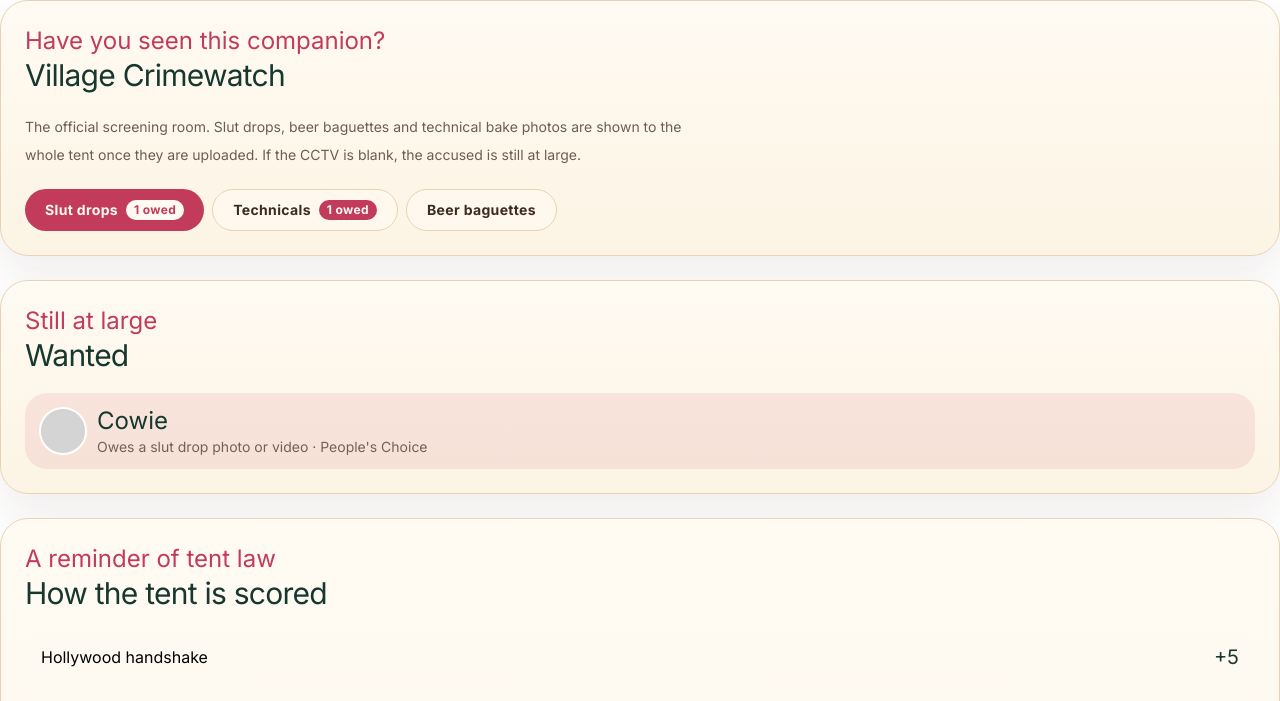
Scenario: Crimewatch punishment buttons › shows one punishment at a time, starting with slut drops
Expected: the heading "Wanted" is shown, 25,337 -> 128,373
Expected: the text "Technical challenges" is not shown
Click the tab "Technicals 1 owed".
click(305, 210)  # box 212,189 -> 398,231
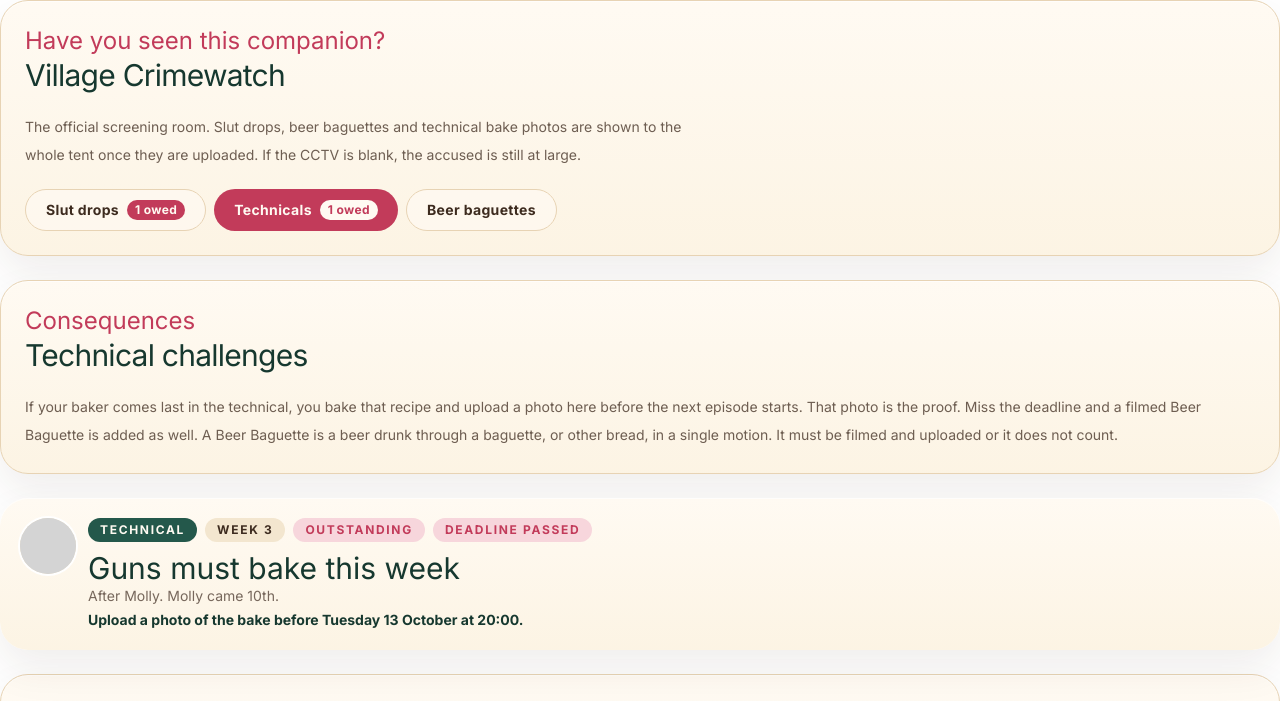
Now the heading "Technical challenges" is shown, box 25,337 -> 308,373
Now the text "After Molly. Molly came 10th." is shown, box 88,587 -> 279,604
Now the heading "Wanted" is gone
Click the tab "Beer baguettes".
click(481, 210)  # box 406,189 -> 557,231
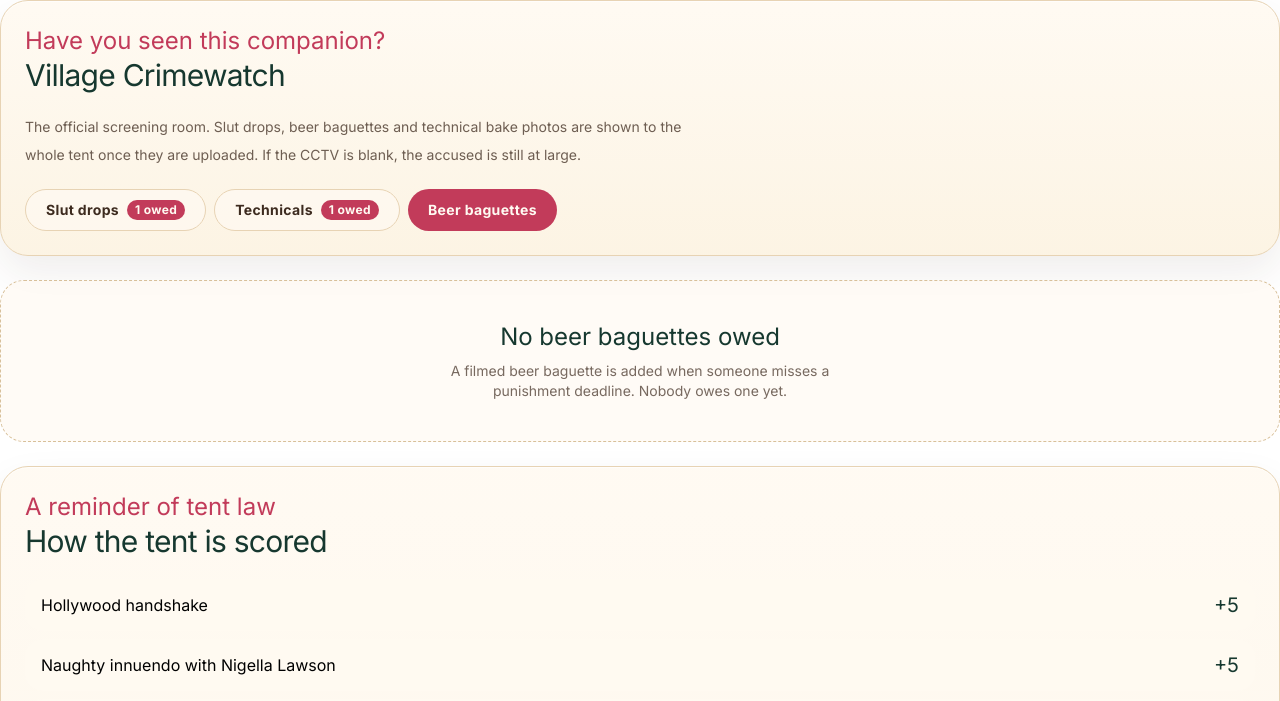
Now the text "No beer baguettes owed" is shown, box 500,322 -> 780,351
